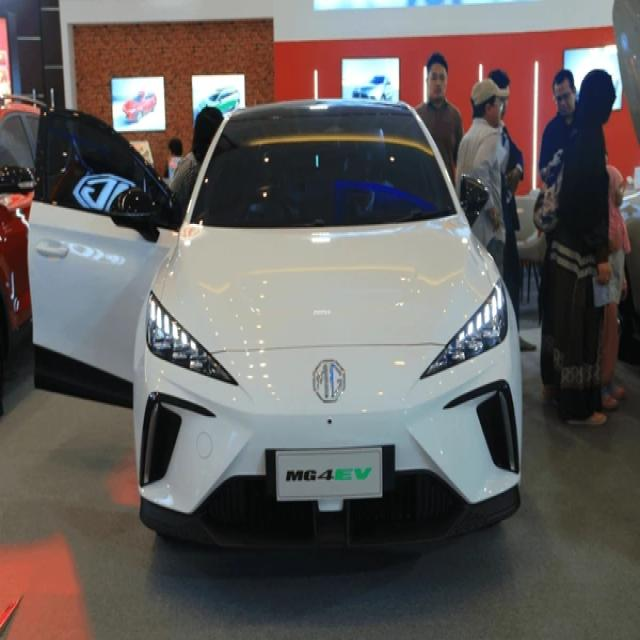mg: (311, 356, 347, 404)
